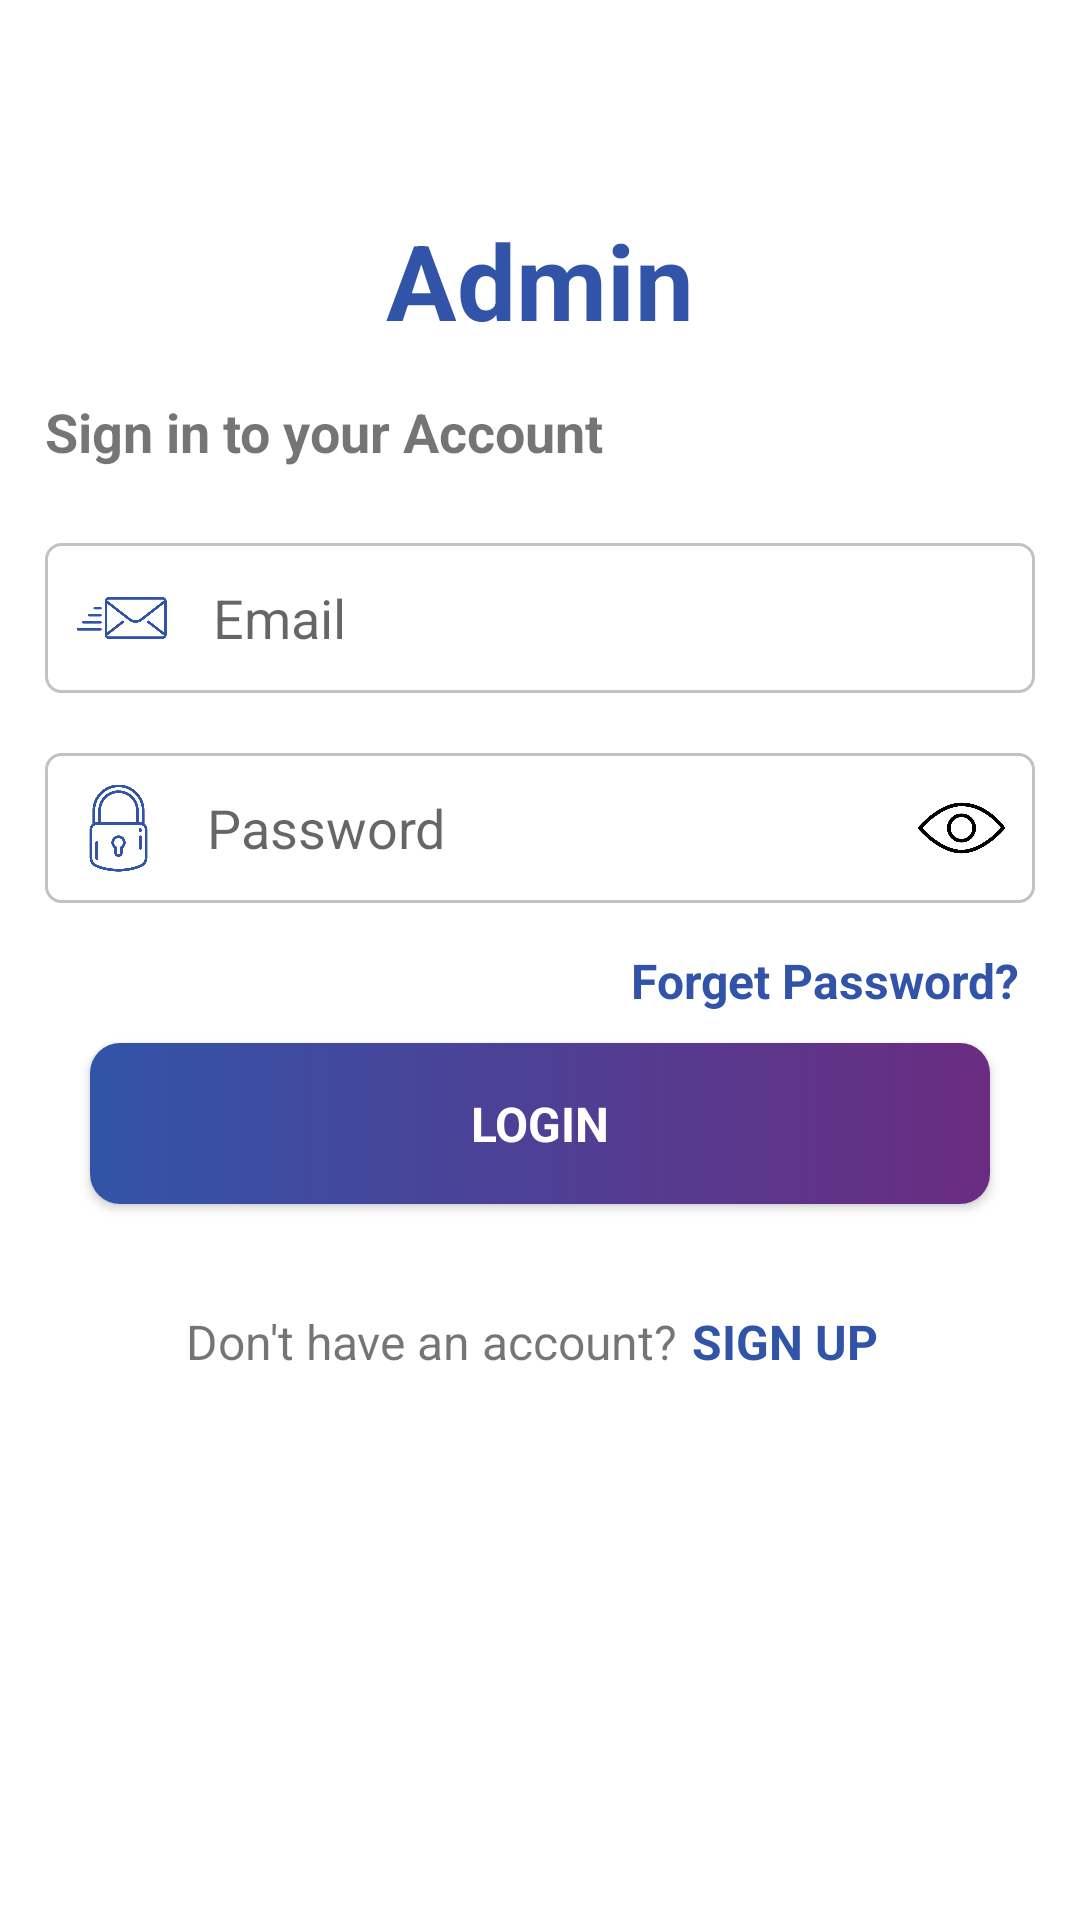

Icons on this 1080 × 1920 Android screen, each with the point to tap as [x,y]:
eye: [961,828]
loock: [118,828]
